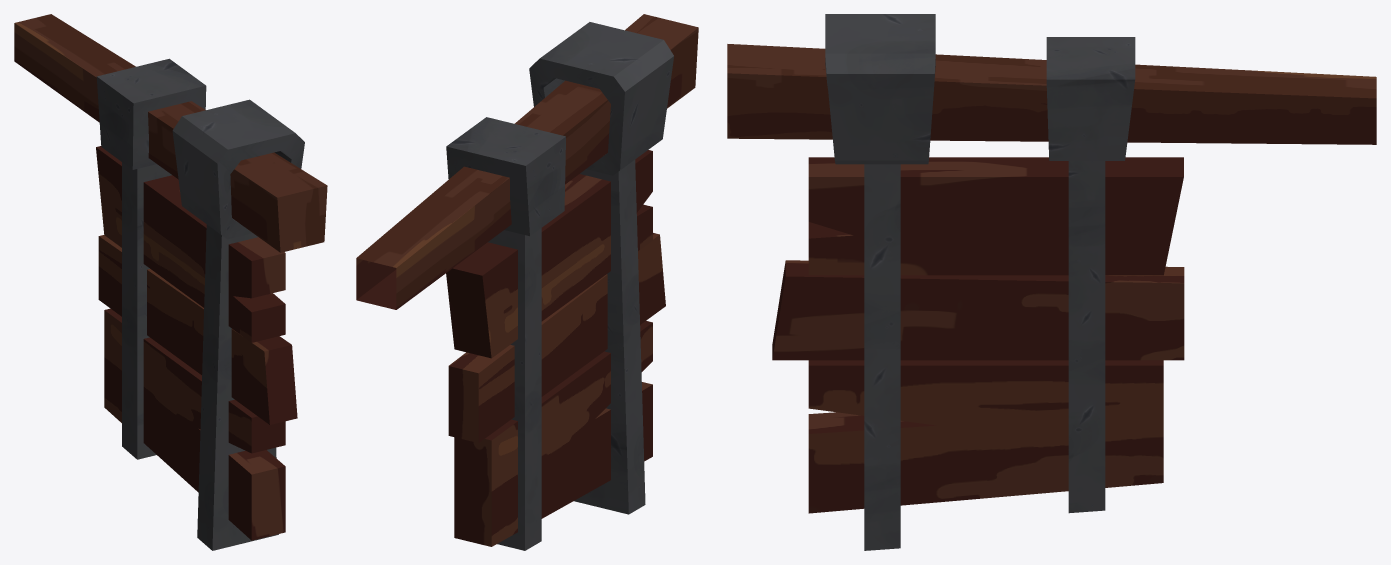
Rendered from SM_PROP_hangingboard.fbx.
3 renders of one model, left to right at view 1: azimuth 30°, elevation 25°; view 2: azimuth 150°, elevation 25°; view 3: azimuth 270°, elevation 25°, orthographic. The views are drawn at different scales.
Parts seen in each view (by area): view 1: SM_PROP_hangingboard; view 2: SM_PROP_hangingboard; view 3: SM_PROP_hangingboard.
Boxes of the visible parts, box(x1,y1,x2,y2) form: SM_PROP_hangingboard: box(14, 14, 327, 550); SM_PROP_hangingboard: box(356, 14, 698, 550); SM_PROP_hangingboard: box(727, 14, 1376, 550).
Bounding box in the file's own units: 40.03 × 180 × 213.
